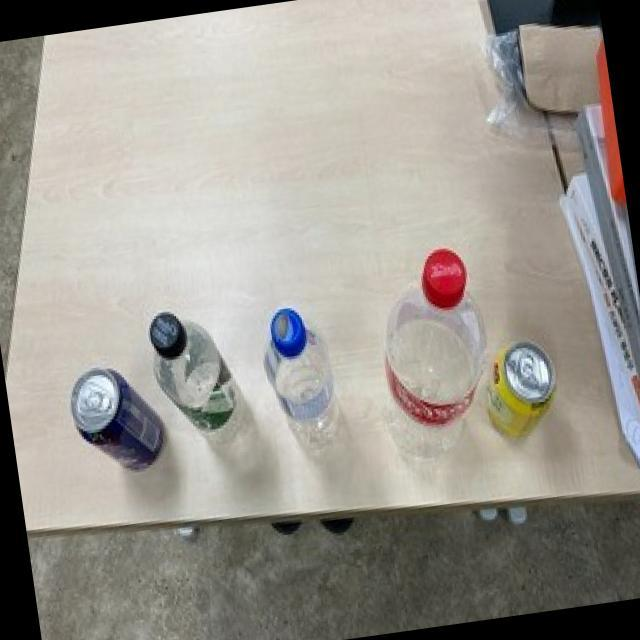good: (360, 238, 508, 482), (142, 294, 266, 498), (252, 297, 352, 482), (61, 354, 170, 492), (475, 329, 568, 451)
